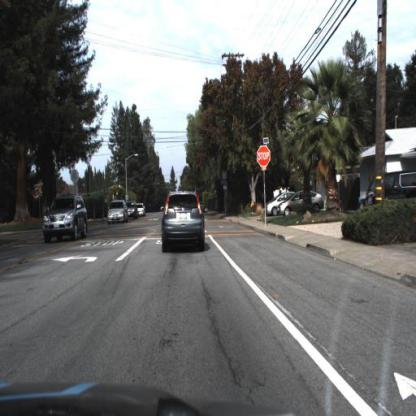car: (39, 186, 92, 254), (159, 190, 205, 260), (360, 163, 416, 214), (275, 185, 326, 221), (265, 191, 299, 214), (105, 196, 128, 228), (262, 191, 277, 223), (127, 193, 140, 225), (135, 200, 147, 221)
